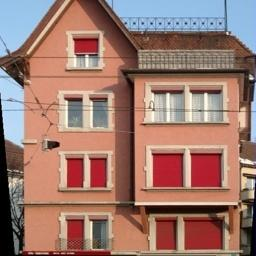building: (20, 0, 254, 256)
